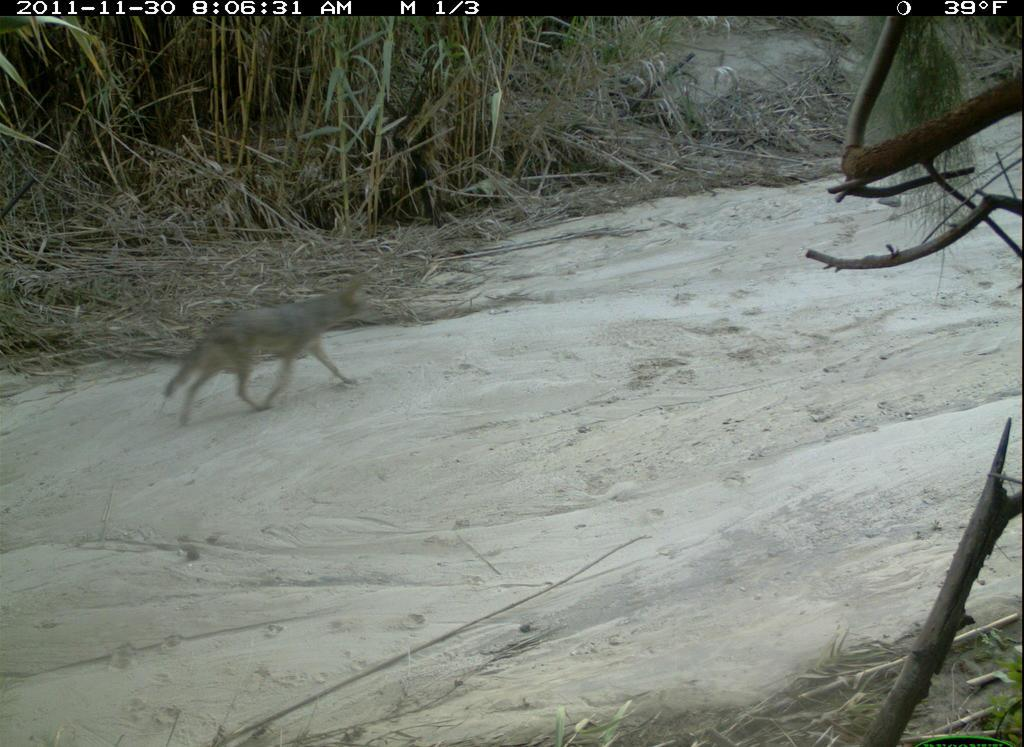coyote: (161, 267, 379, 433)
